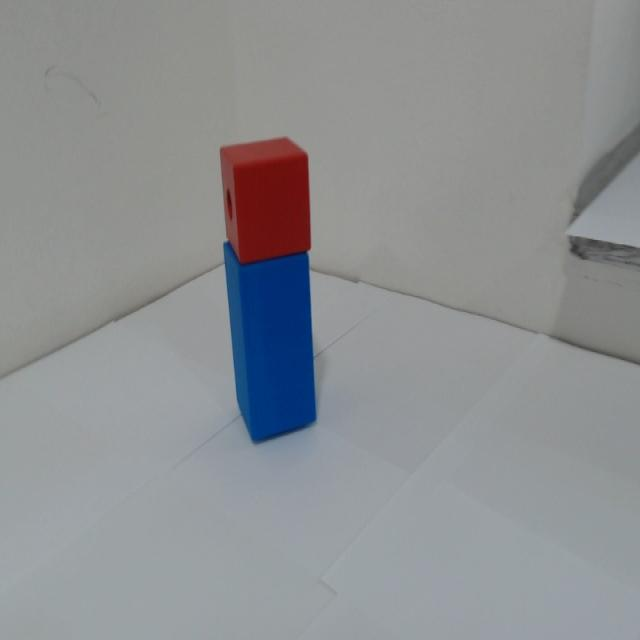cube: (214, 133, 345, 267)
